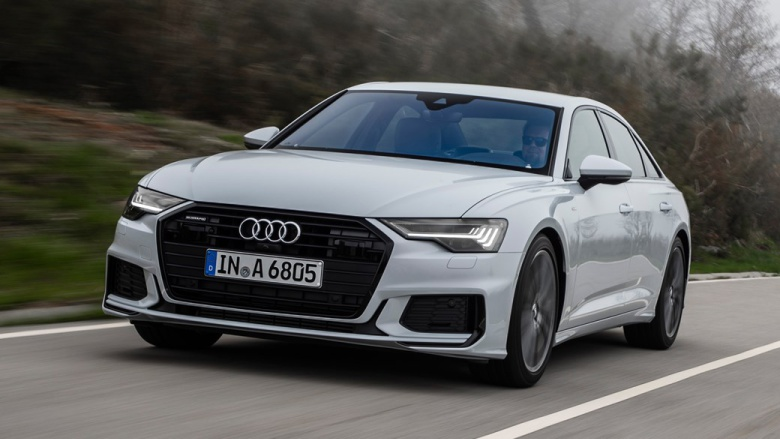audi: (232, 212, 308, 247)
